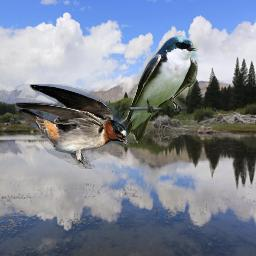Swallow: (15, 84, 128, 169), (115, 35, 198, 143)
